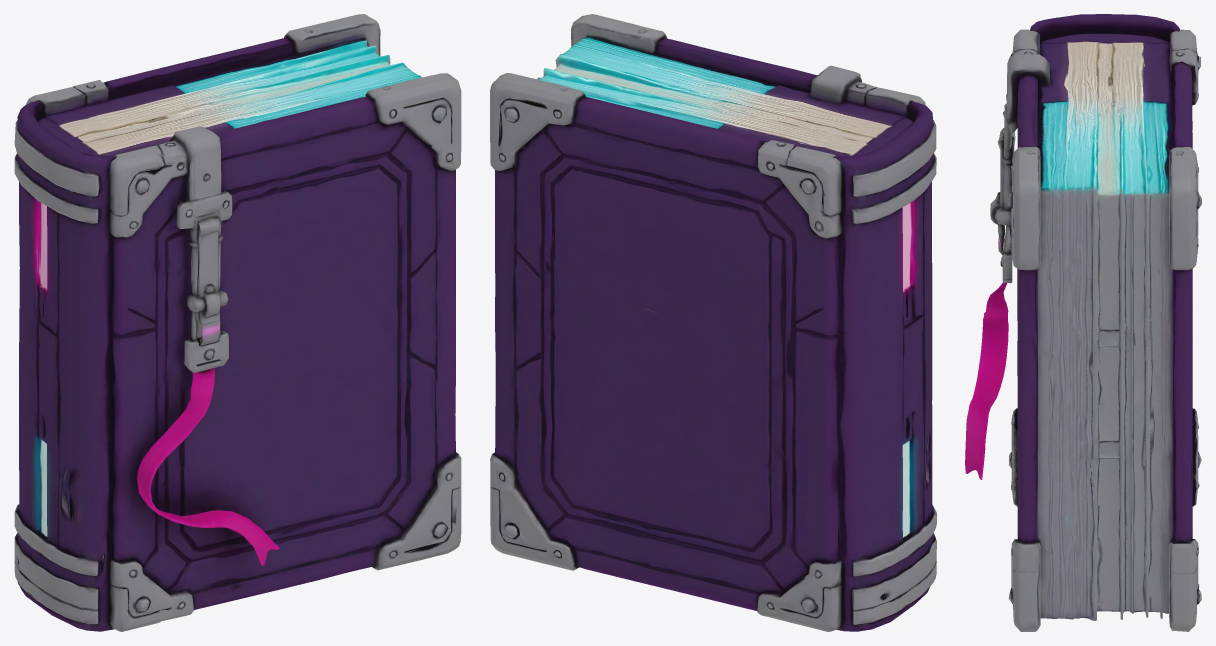
Rendered from prop-tome.glb.
3 views of the same model, side by side, from view 1: azimuth 30°, elevation 25°; view 2: azimuth 150°, elevation 25°; view 3: azimuth 270°, elevation 25° (orthographic). The views are drawn at different scales.
Parts seen in each view (by area): view 1: body; view 2: body; view 3: body.
Part boxes in pixels (box(x1,y1,x2,y2)): body: box(14, 14, 461, 631); body: box(490, 14, 936, 631); body: box(965, 14, 1201, 631).
Size of the model in its own units: 0.8263 by 0.9995 by 0.4691.
Materials: 1 (1 with a texture image).
